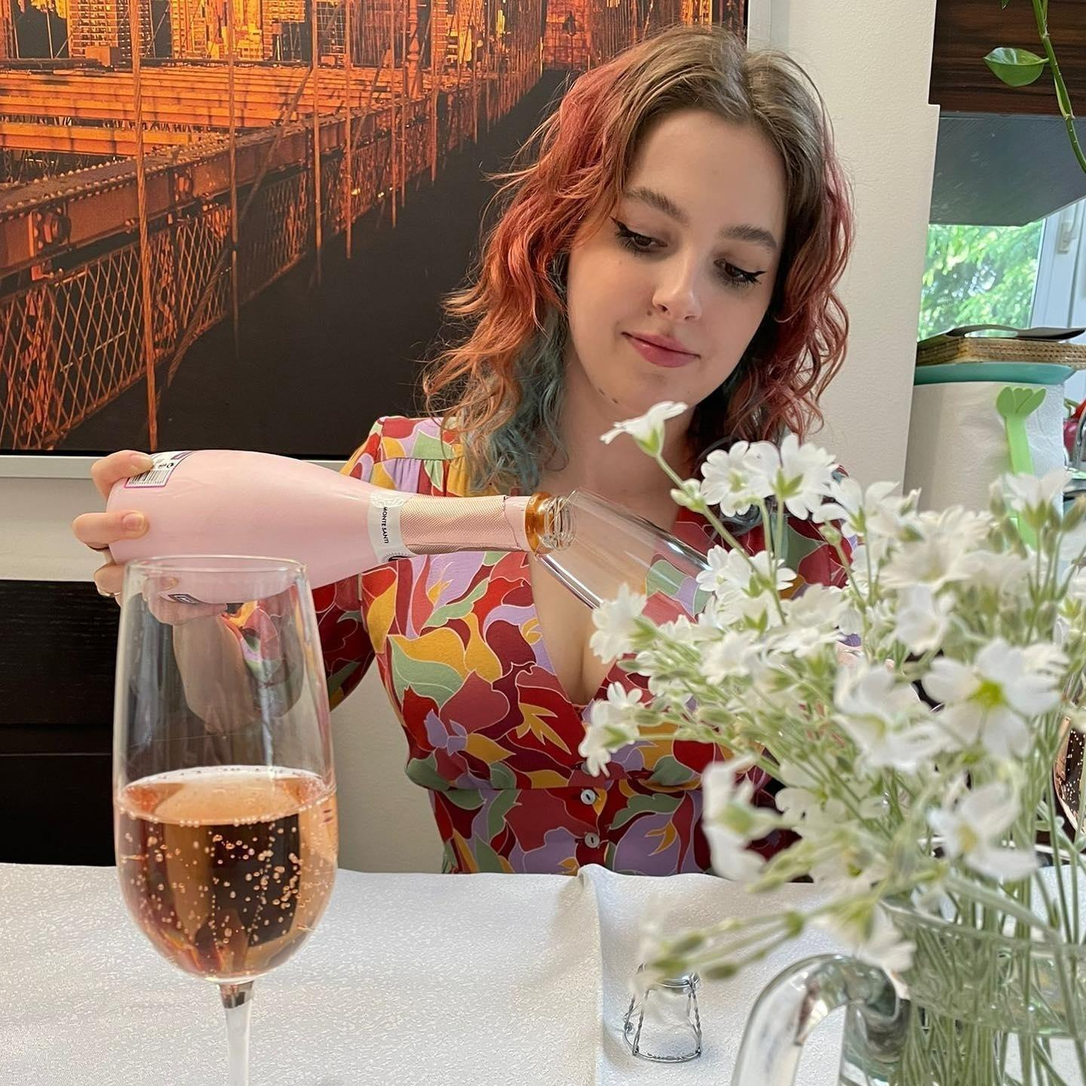bottle-glass: (103, 448, 573, 592)
glass-wine: (104, 557, 364, 1086)
